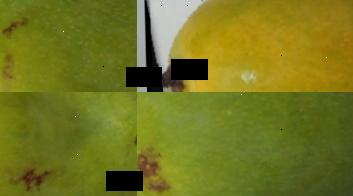PartiallyRipe: (149, 0, 353, 92)
Unripe: (137, 92, 353, 196), (0, 92, 137, 196), (0, 0, 137, 92)
